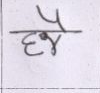ai_matra: (36, 6, 70, 30)
